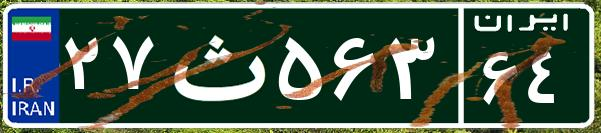2: (57, 26, 110, 107)
3: (385, 28, 445, 110)
4: (525, 38, 570, 115)
5: (273, 28, 330, 110)
6: (330, 28, 385, 110), (475, 38, 525, 113)
7: (110, 28, 158, 105)
ث: (158, 15, 273, 115)
